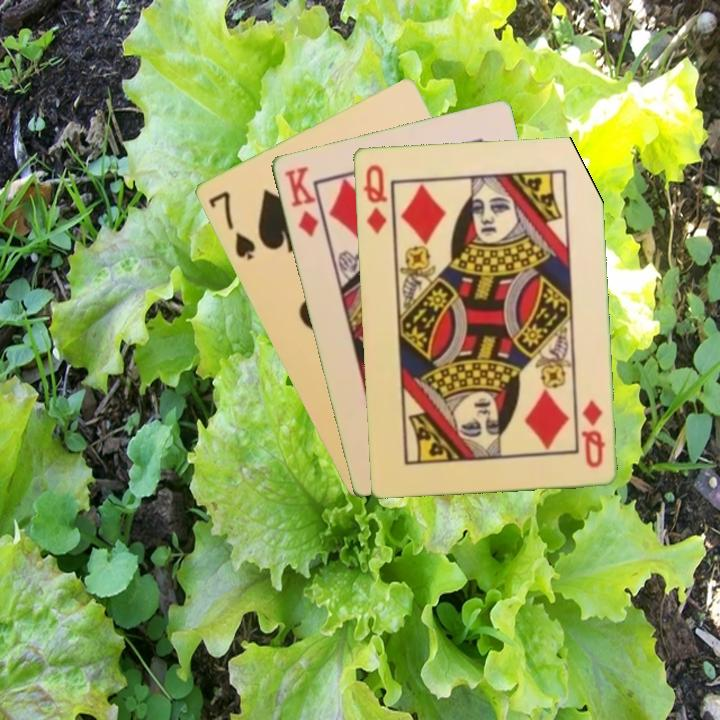7s: (204, 187, 258, 263)
Kd: (280, 162, 322, 240)
Qd: (359, 160, 390, 236), (577, 396, 608, 470)
